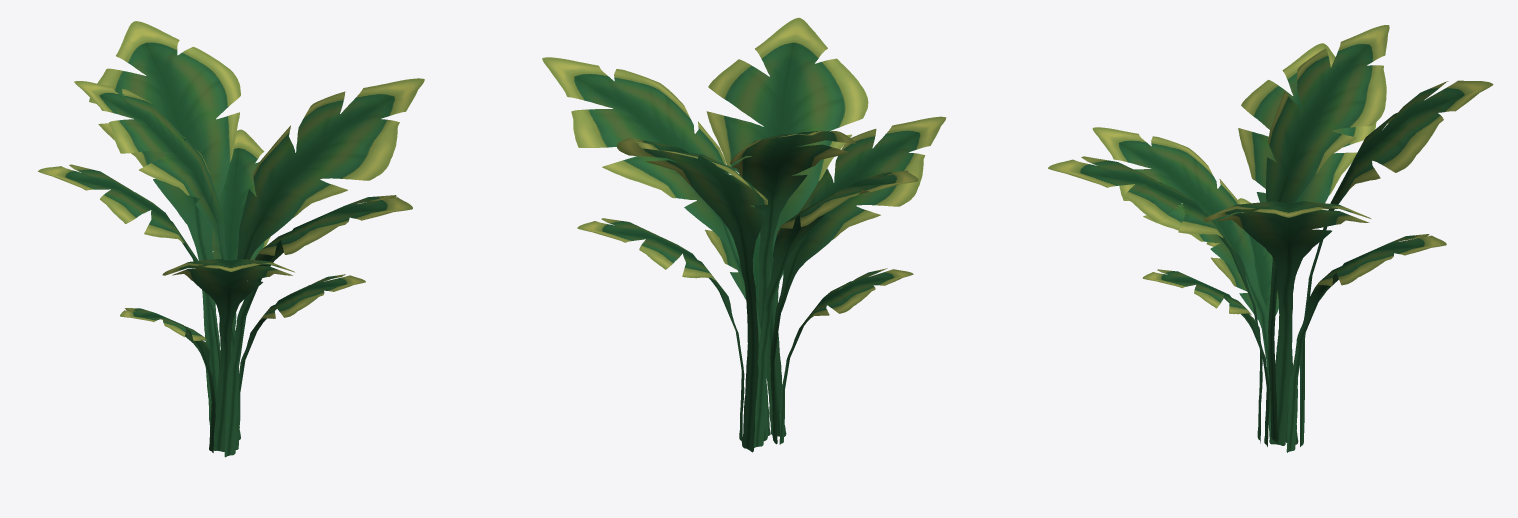
Rendered from Plant_leaf.fbx.
3 views of the same model, side by side, from view 1: azimuth 30°, elevation 25°; view 2: azimuth 150°, elevation 25°; view 3: azimuth 270°, elevation 25° (orthographic). The views are drawn at different scales.
Visible parts, largest first — view 1: Plant; view 2: Plant; view 3: Plant.
Part boxes in pixels (x1,y1,x2,y2): Plant: (38,21,424,457); Plant: (542,17,946,452); Plant: (1048,25,1493,452).
Size of the model in its own units: 163 by 151 by 170.
